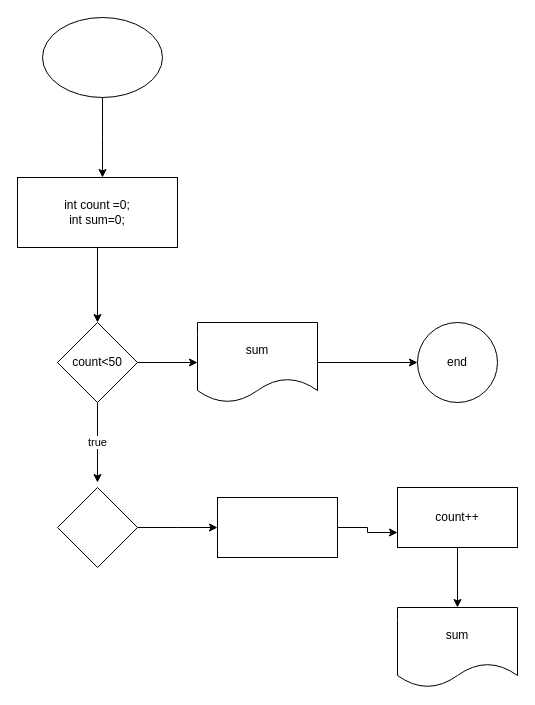
This 535x705 diagram has some shape labels left out. The centre of each missing label's shape, as x and y in pixels:
"count%2==0" belongs at point (97, 527).
"start" belongs at point (102, 57).
"sum+=count" belongs at point (277, 527).
